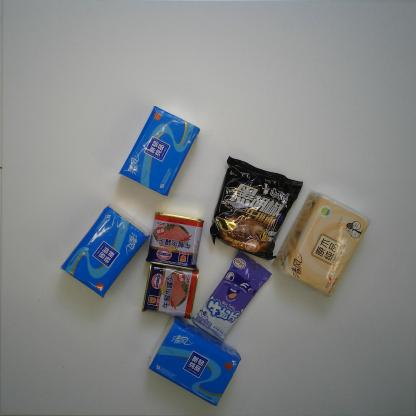Candy: (190, 250, 273, 343)
Canned Food: (145, 211, 205, 271), (141, 262, 200, 320)
Instant Noodles: (209, 155, 303, 261)
Tissue: (271, 192, 371, 298), (145, 316, 241, 407), (60, 204, 151, 298), (119, 105, 200, 197)
